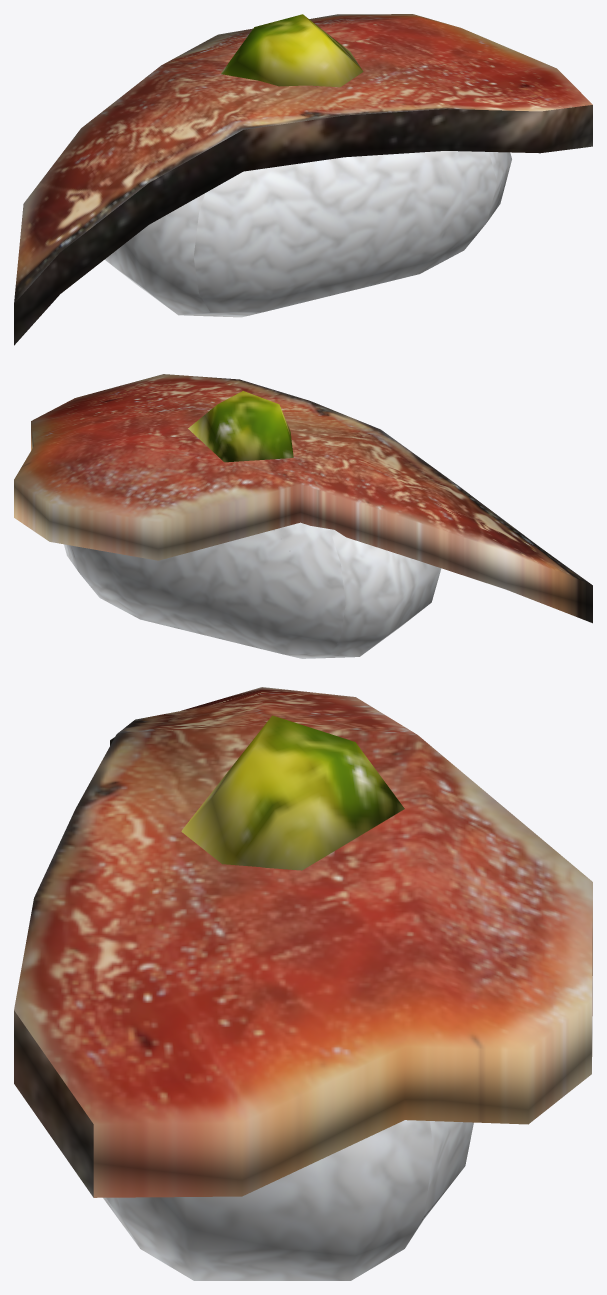
The model's file is skipjack_2.fbx.
3 renders of one model, top to bottom at view 1: azimuth 30°, elevation 25°; view 2: azimuth 150°, elevation 25°; view 3: azimuth 270°, elevation 25°, orthographic. The views are drawn at different scales.
Visible parts, largest first — view 1: skipjack_2; view 2: skipjack_2; view 3: skipjack_2.
Boxes of the visible parts, left/top/right/bottom form: skipjack_2: left=14, top=14, right=592, bottom=345; skipjack_2: left=14, top=374, right=592, bottom=658; skipjack_2: left=14, top=687, right=592, bottom=1280.
Bounding box in the file's own units: 8.94 × 3.69 × 4.38.
